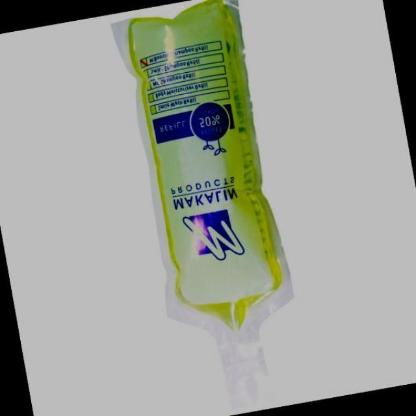Plastic Packaging: (110, 2, 296, 416)
